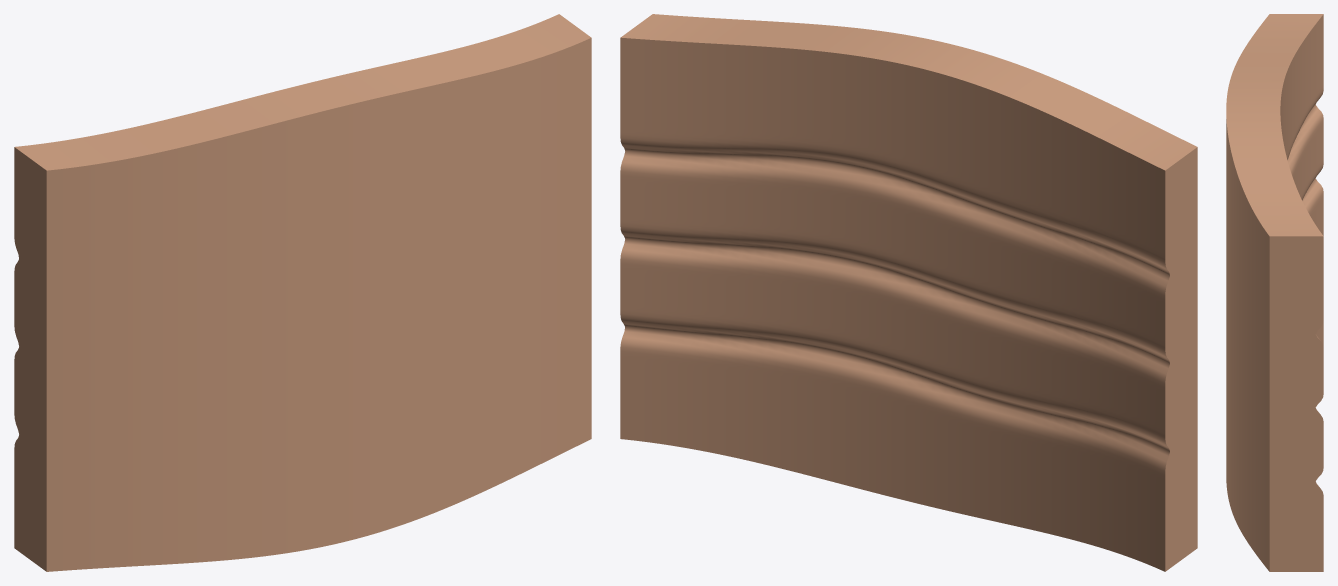
Rendered from POT3.glb.
The picture shows the model from 3 angles, left to right: view 1: azimuth 30°, elevation 25°; view 2: azimuth 150°, elevation 25°; view 3: azimuth 270°, elevation 25°; orthographic projection. The views are drawn at different scales.
Visible parts, largest first — view 1: POT3/0000_incised_inner_wall; view 2: POT3/0000_incised_inner_wall; view 3: POT3/0000_incised_inner_wall.
Boxes of the visible parts, x1,y1,x2,y2 form: POT3/0000_incised_inner_wall: (14, 14, 591, 571); POT3/0000_incised_inner_wall: (620, 14, 1197, 571); POT3/0000_incised_inner_wall: (1226, 14, 1323, 571).
Size of the model in its own units: 0.17 by 0.13 by 0.0315.
